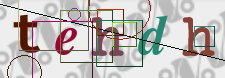d: (132, 13, 172, 59)
e: (51, 24, 82, 59)
h: (88, 14, 128, 60), (179, 14, 219, 60)
t: (9, 9, 45, 57)
